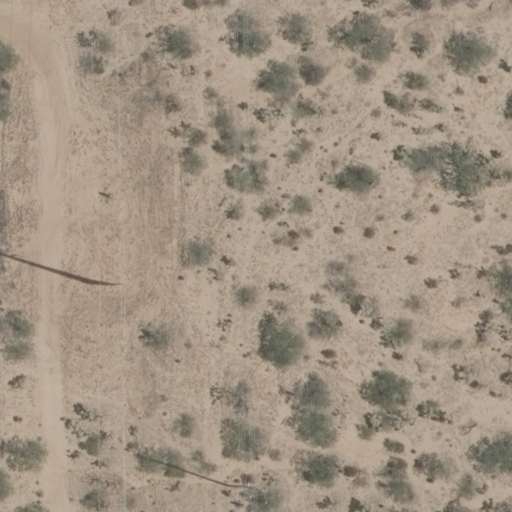DT: (224, 478, 265, 501), (88, 275, 126, 293)
